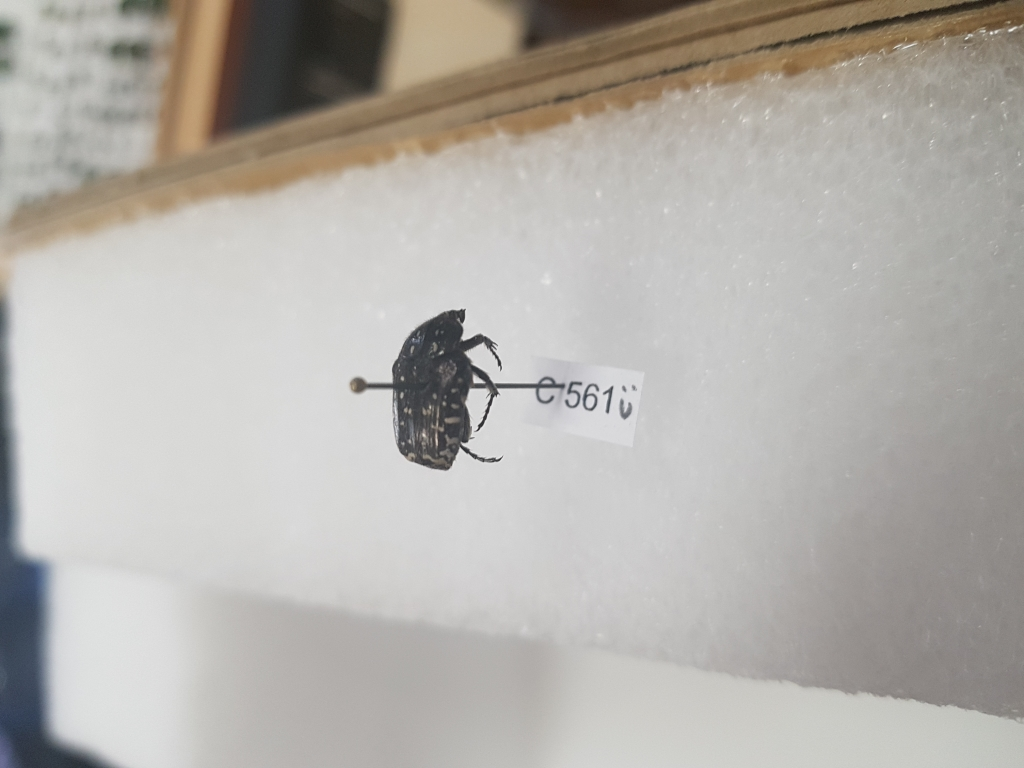Oxythyrea_funesta: (394, 305, 511, 474)
